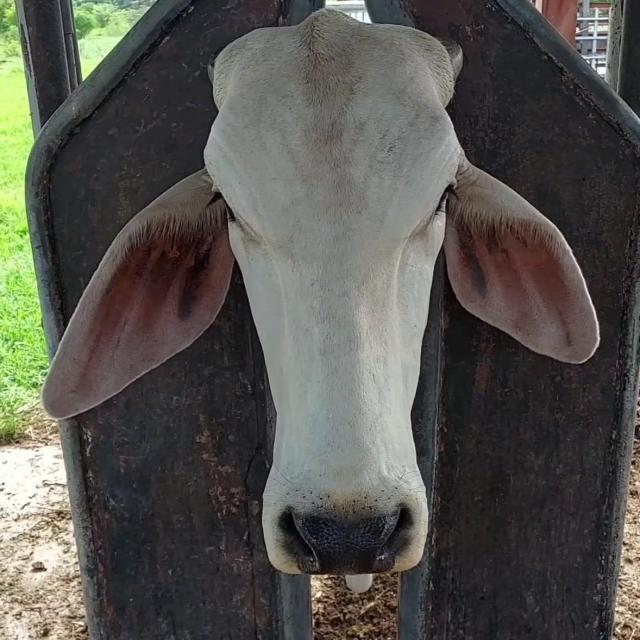cowFace: (215, 27, 455, 568)
